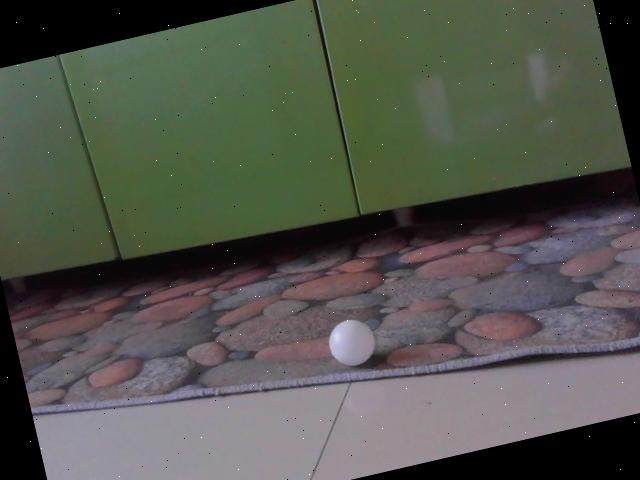ball: (324, 316, 380, 370)
